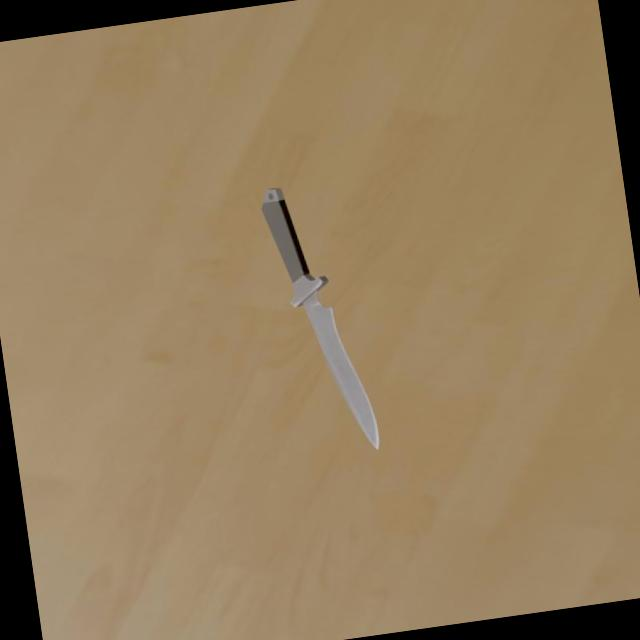knife: (258, 185, 310, 286)
